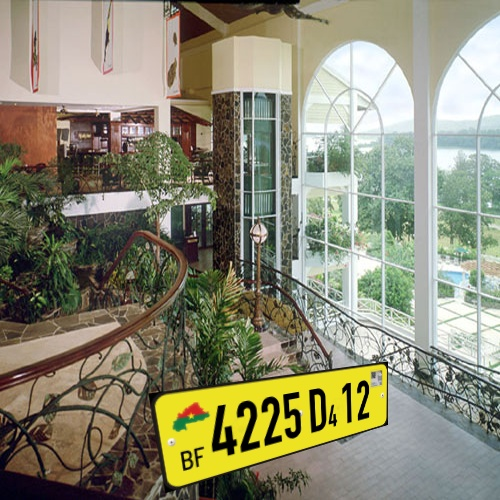plate: (141, 355, 403, 496)
